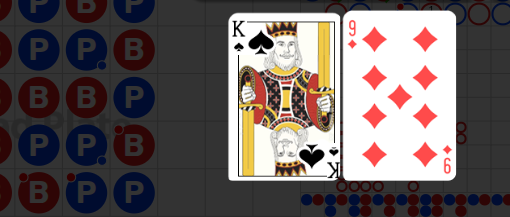9D: (347, 19, 358, 50)
KS: (230, 19, 246, 55)
